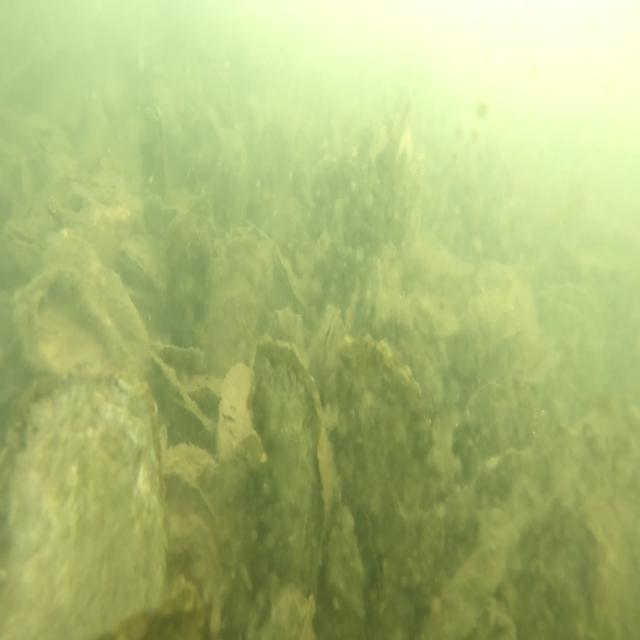Oyster-Closed: (0, 362, 167, 639), (336, 330, 447, 640), (251, 338, 340, 640), (273, 244, 312, 321), (309, 303, 342, 392)
Oyster-Indeterminate: (468, 394, 640, 640), (12, 267, 143, 386), (199, 224, 275, 376), (159, 194, 213, 346), (217, 361, 255, 464)
Oyster-Open: (326, 502, 381, 640), (134, 101, 167, 209), (5, 219, 58, 277), (116, 237, 160, 289)
